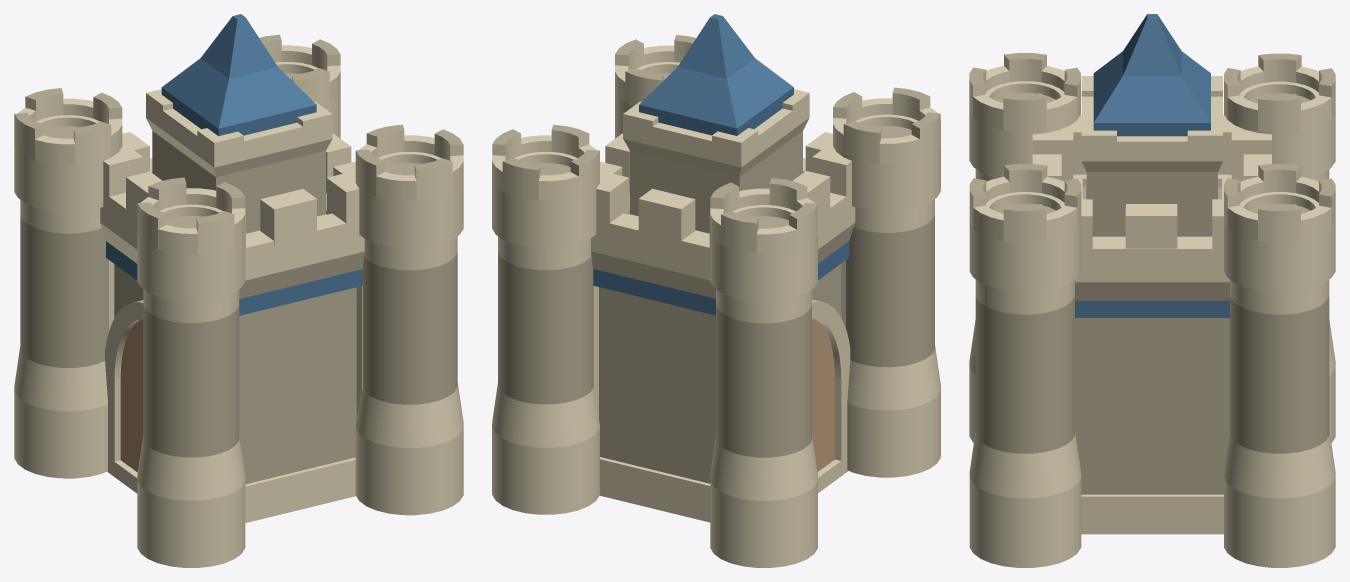
File: castle_lvl3.fbx
3 views of the same model, side by side, from view 1: azimuth 30°, elevation 25°; view 2: azimuth 150°, elevation 25°; view 3: azimuth 270°, elevation 25° (orthographic). The views are drawn at different scales.
Parts seen in each view (by area): view 1: tower3; view 2: tower3; view 3: tower3.
Boxes of the visible parts, bbox=[...] form: tower3: bbox=[14, 14, 463, 567]; tower3: bbox=[492, 14, 940, 567]; tower3: bbox=[969, 14, 1335, 567].
Bounding box in the file's own units: 316 × 444 × 311.
